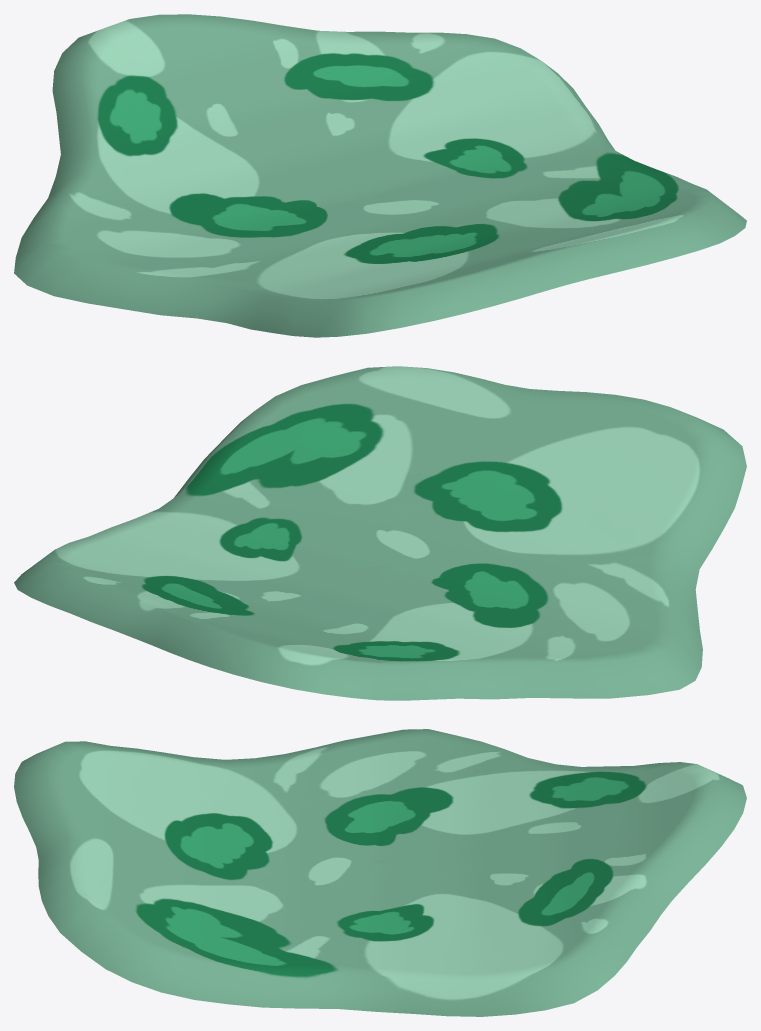
The model's file is Small Mossy Puddle.fbx.
3 renders of one model, top to bottom at view 1: azimuth 30°, elevation 25°; view 2: azimuth 150°, elevation 25°; view 3: azimuth 270°, elevation 25°, orthographic. The views are drawn at different scales.
Visible parts, largest first — view 1: Small; view 2: Small; view 3: Small.
Part boxes in pixels (<box>): Small: <box>14,14,746,337</box>; Small: <box>14,366,746,700</box>; Small: <box>14,729,746,1016</box>.
Bounding box in the file's own units: 17.23 × 2.36 × 18.92.
Materials: 1 (1 with a texture image).
